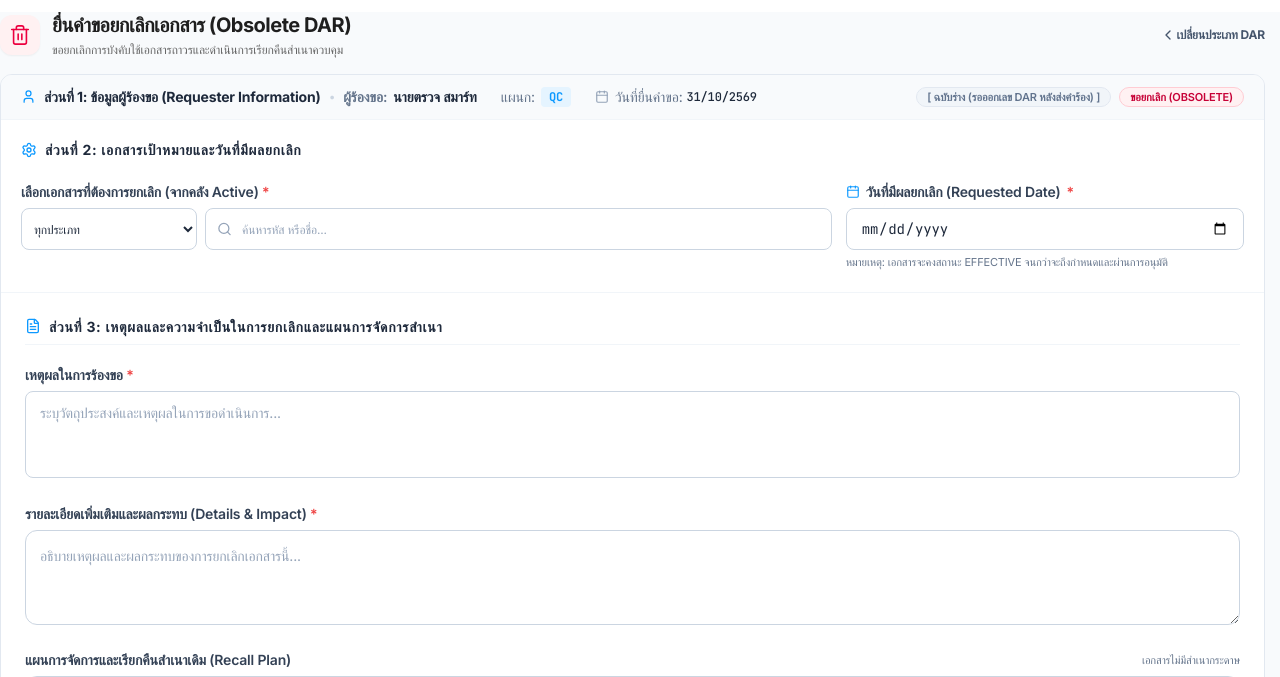
Test case: DAR Document Code Resolution & Form Standardization › 3. DAR Obsolete Form: Select Options & Preview › updates Selected State box, transition badge, and clear button upon selecting a document in obsolete form
This screenshot has width=1280, height=677.
Focus search input to show dropdown
Focus the field with placeholder "ค้นหารหัส หรือชื่อ..." at (518, 229), box top-left (205, 208), bottom-right (832, 250)
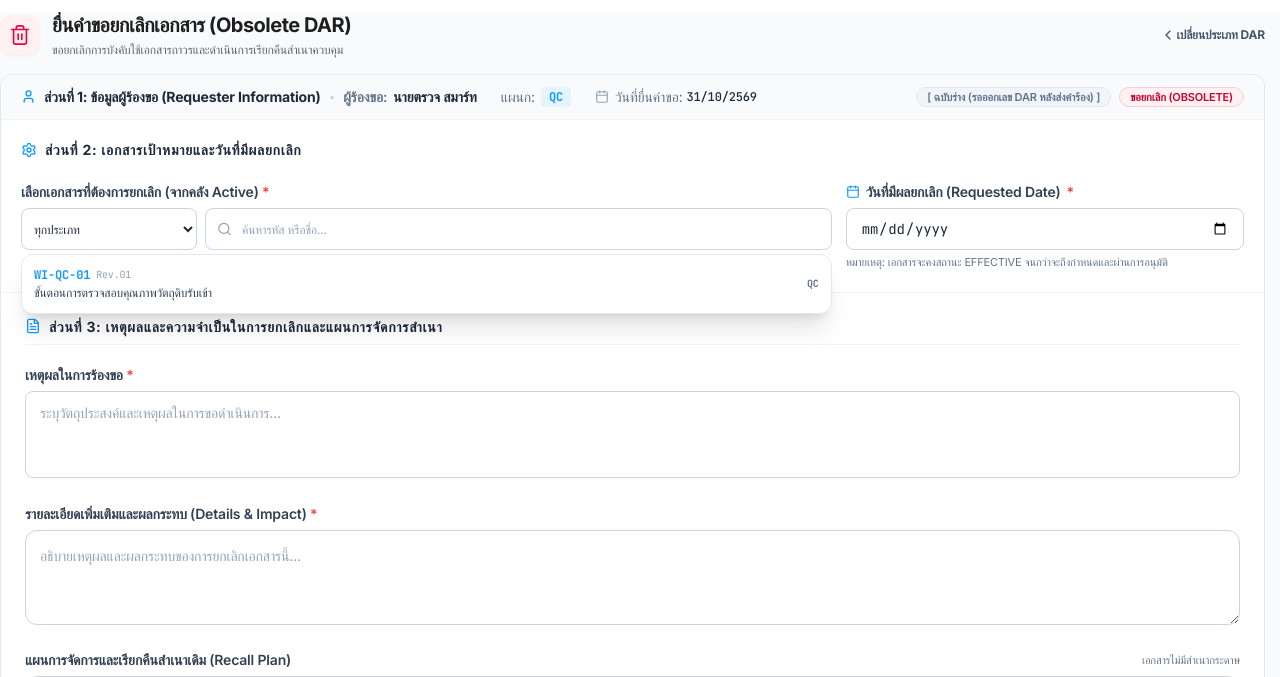
Result: the text "ขั้นตอนการตรวจสอบคุณภาพวัตถุดิบรับเข้า" is shown at top-left (34, 285), bottom-right (212, 300)
Click the text "ขั้นตอนการตรวจสอบคุณภาพวัตถุดิบรับเข้า" at (62, 275), box top-left (34, 267), bottom-right (819, 300)
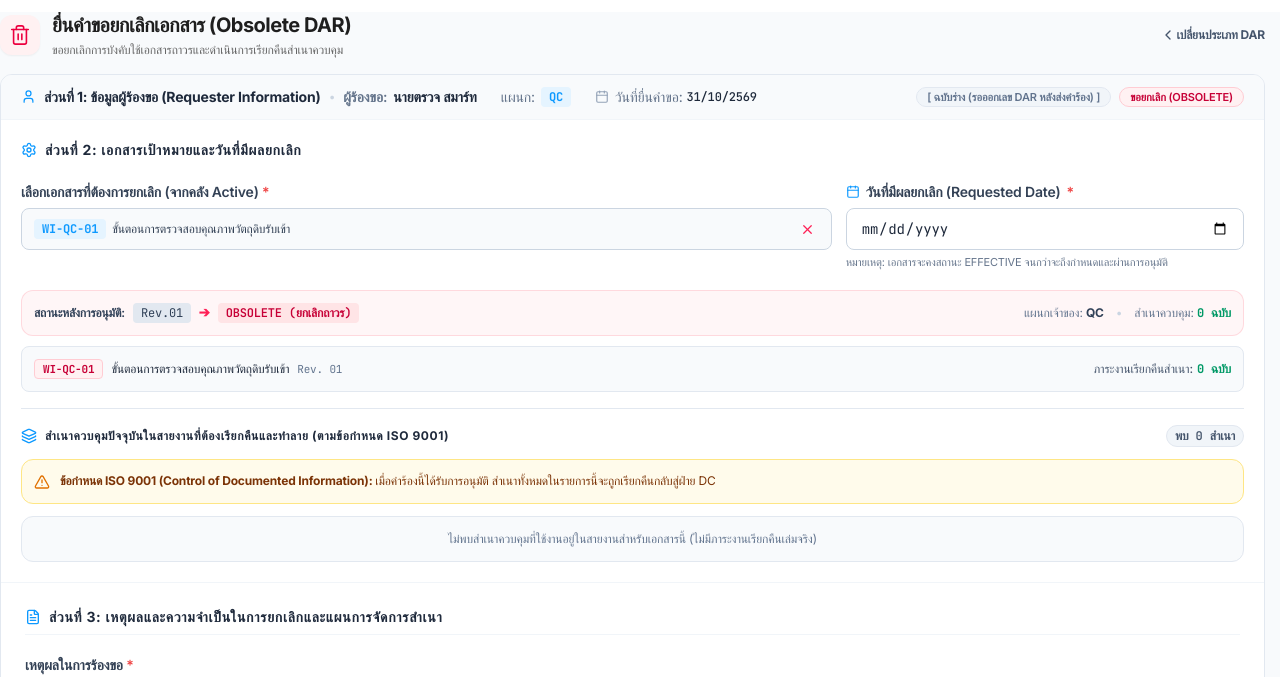
Result: the text "OBSOLETE (ยกเลิกถาวร)" is shown at top-left (218, 303), bottom-right (359, 323)
Result: the text "สถานะหลังการอนุมัติ:" is shown at top-left (34, 305), bottom-right (125, 321)
Result: the button titled "เปลี่ยนเอกสาร" is shown
Click the button titled "เปลี่ยนเอกสาร" at (807, 229), box top-left (796, 218), bottom-right (819, 241)
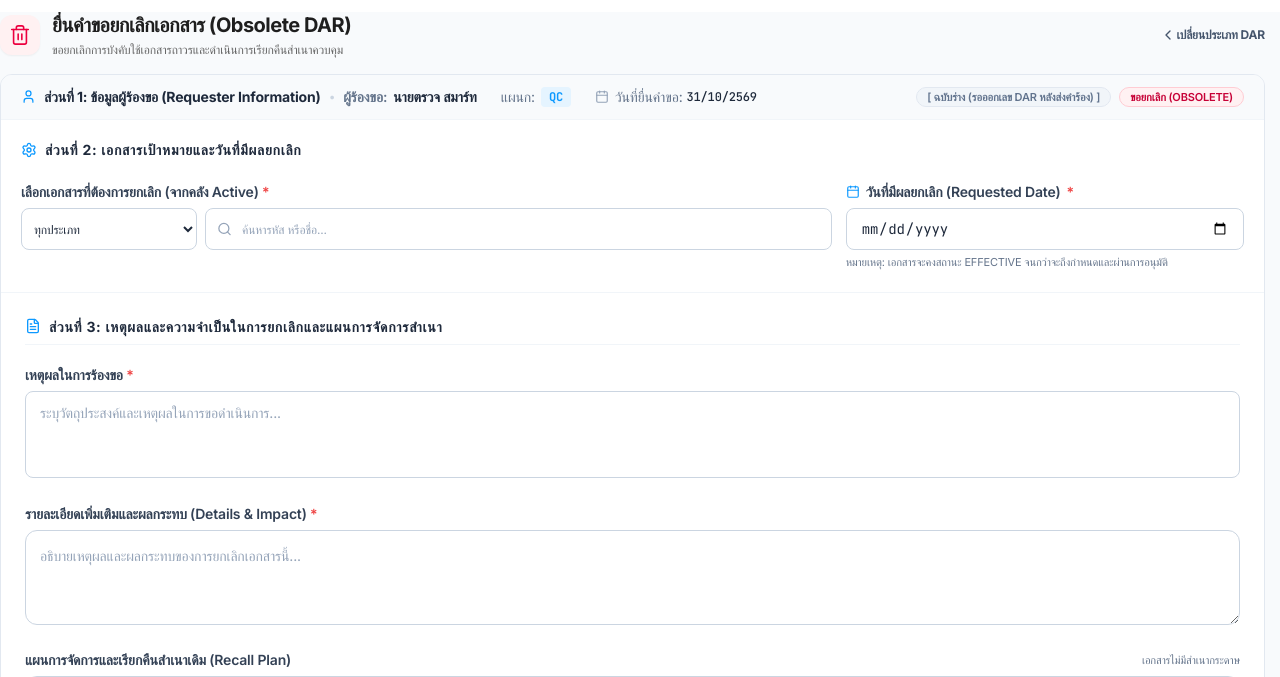
Result: the field with placeholder "ค้นหารหัส หรือชื่อ..." is shown at top-left (205, 208), bottom-right (832, 250)
